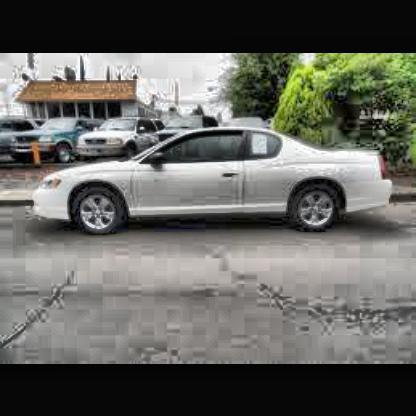Chevrolet Monte Carlo Coupe 2007: (32, 119, 401, 237)
